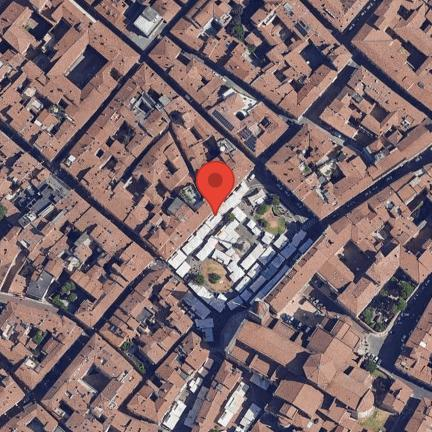area_open: (173, 173, 306, 351), (361, 335, 394, 368)
built: (2, 132, 155, 416), (58, 64, 252, 263), (4, 271, 209, 431), (148, 1, 349, 154), (193, 304, 432, 432), (259, 168, 431, 317), (266, 63, 431, 216), (2, 3, 139, 158), (352, 2, 431, 117), (88, 0, 182, 51), (392, 293, 431, 385), (306, 1, 369, 35)
vegetation_high: (364, 279, 413, 327)
